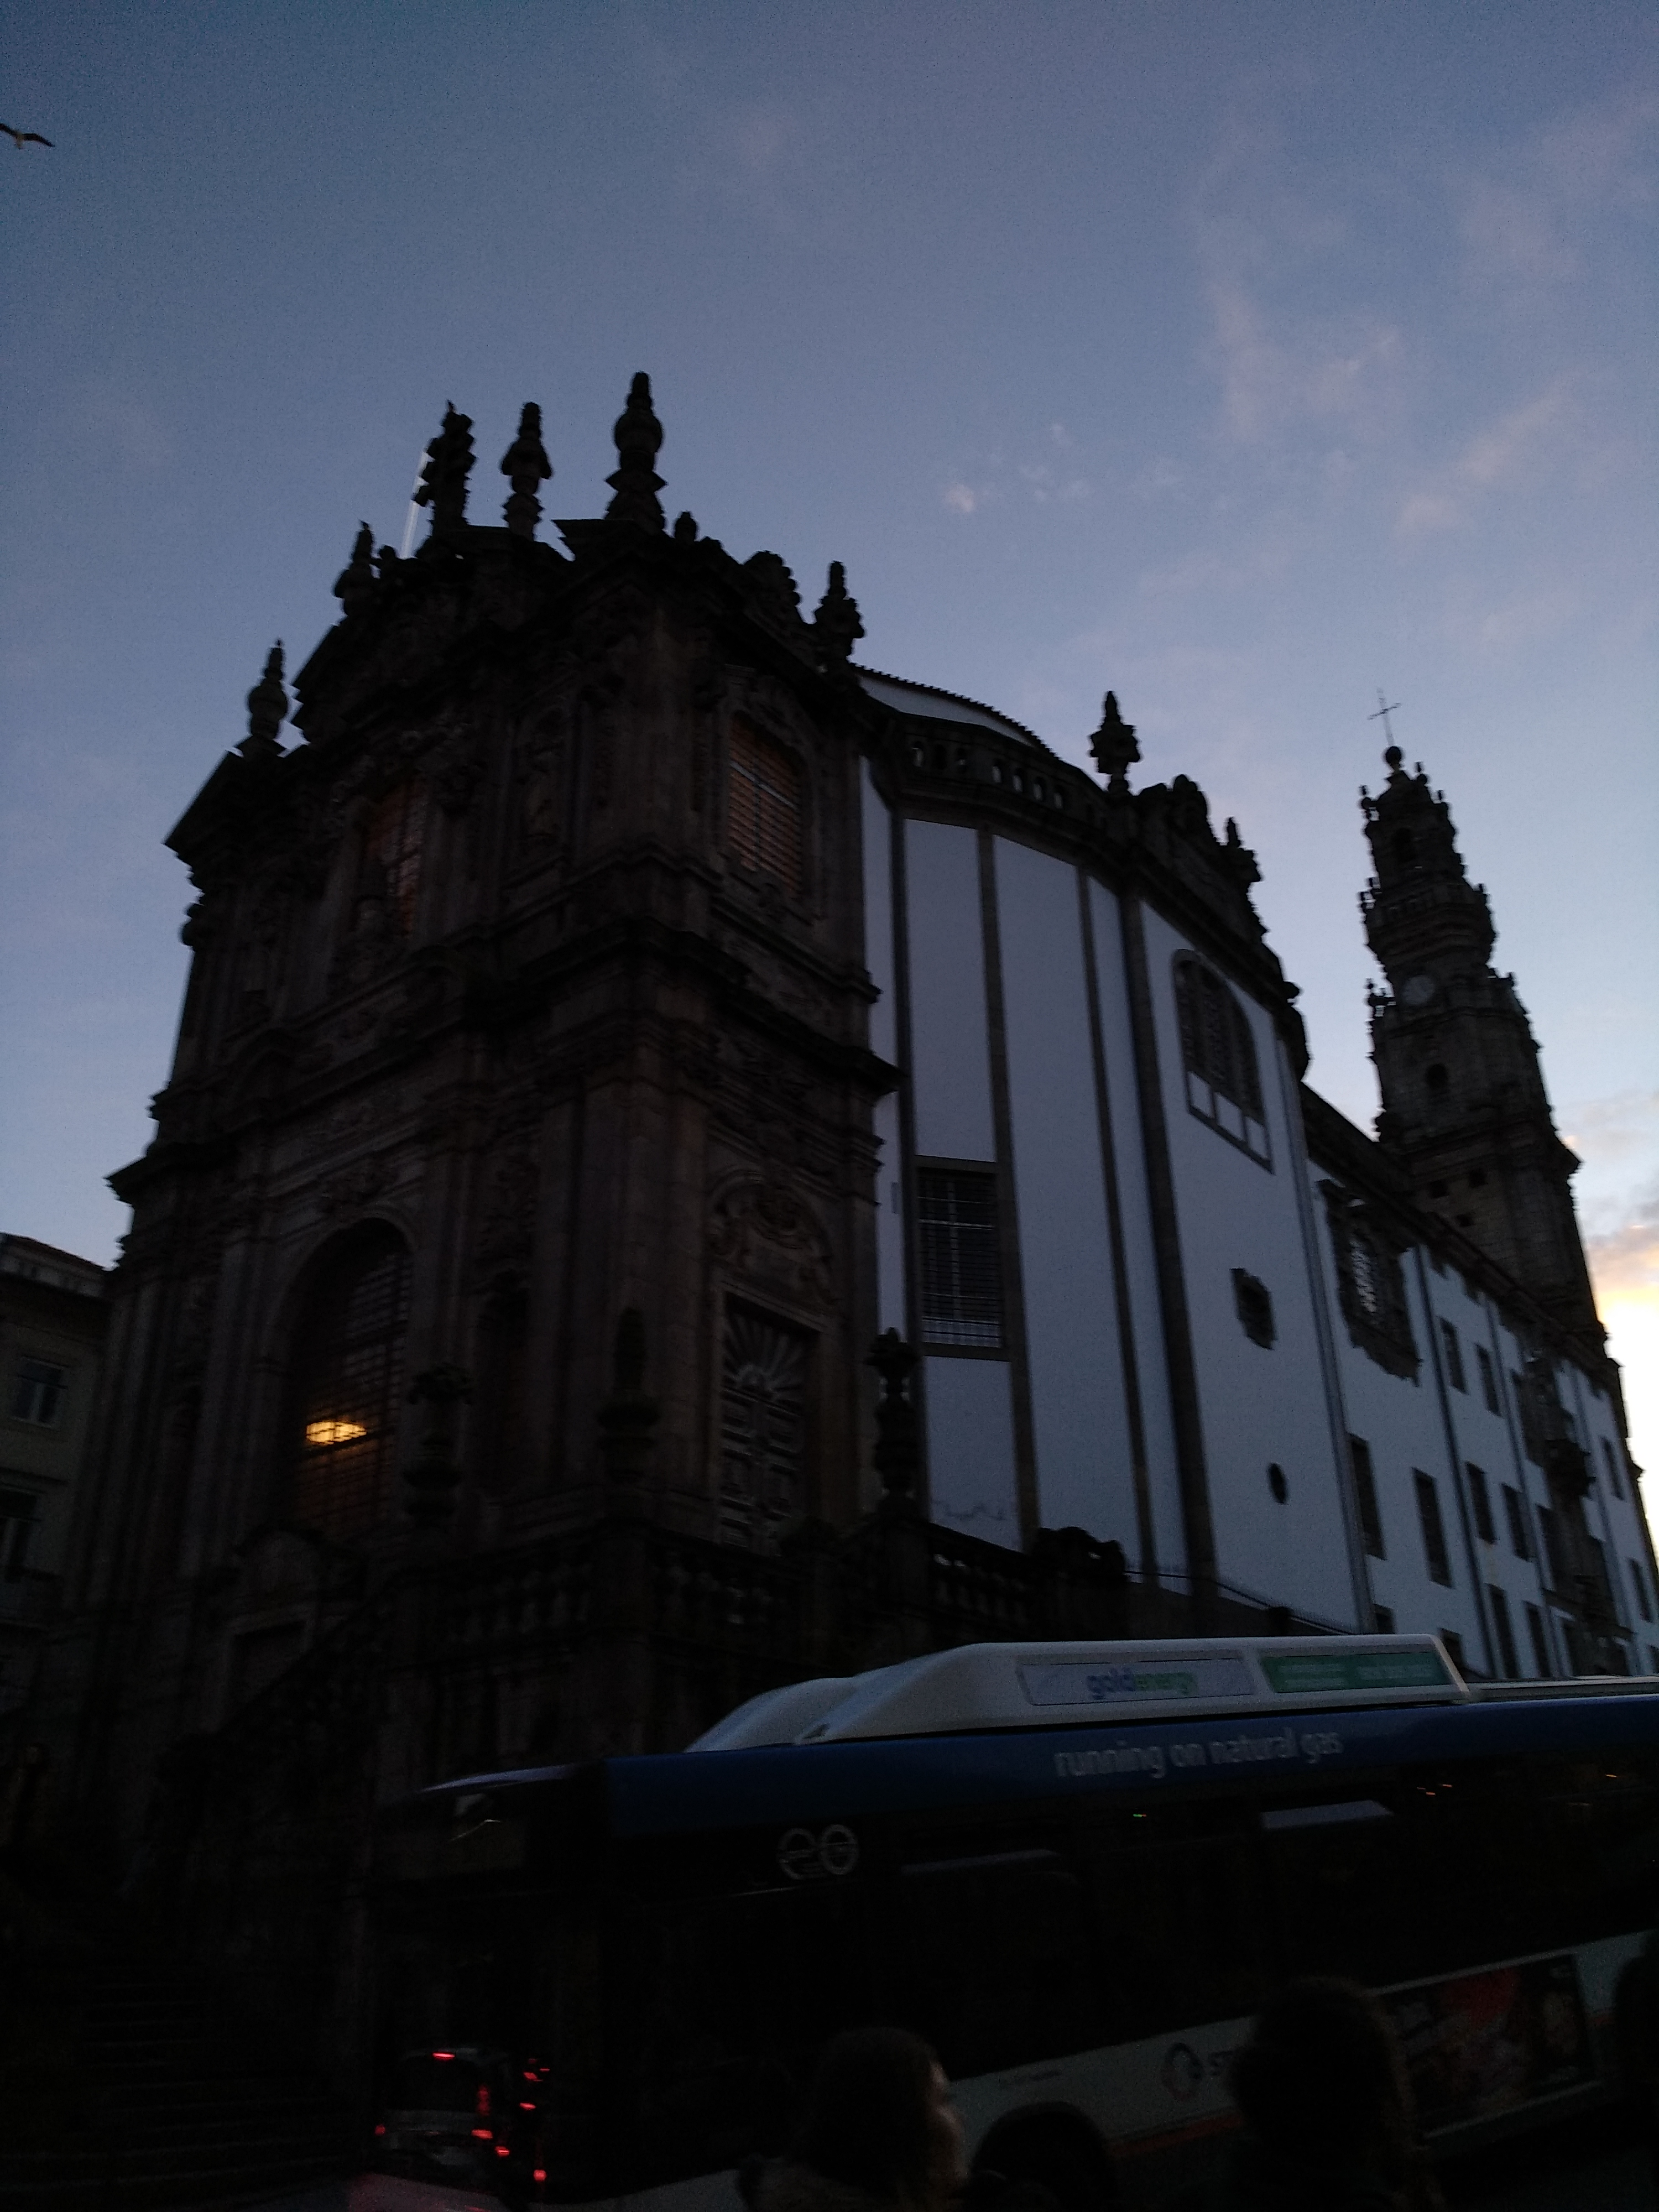clerigos: (293, 627, 1333, 705)
